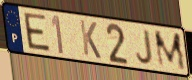1: (50, 14, 65, 56)
2: (105, 21, 130, 67)
E: (22, 11, 52, 53)
J: (135, 28, 154, 66)
K: (78, 19, 103, 62)
M: (152, 30, 188, 73)
